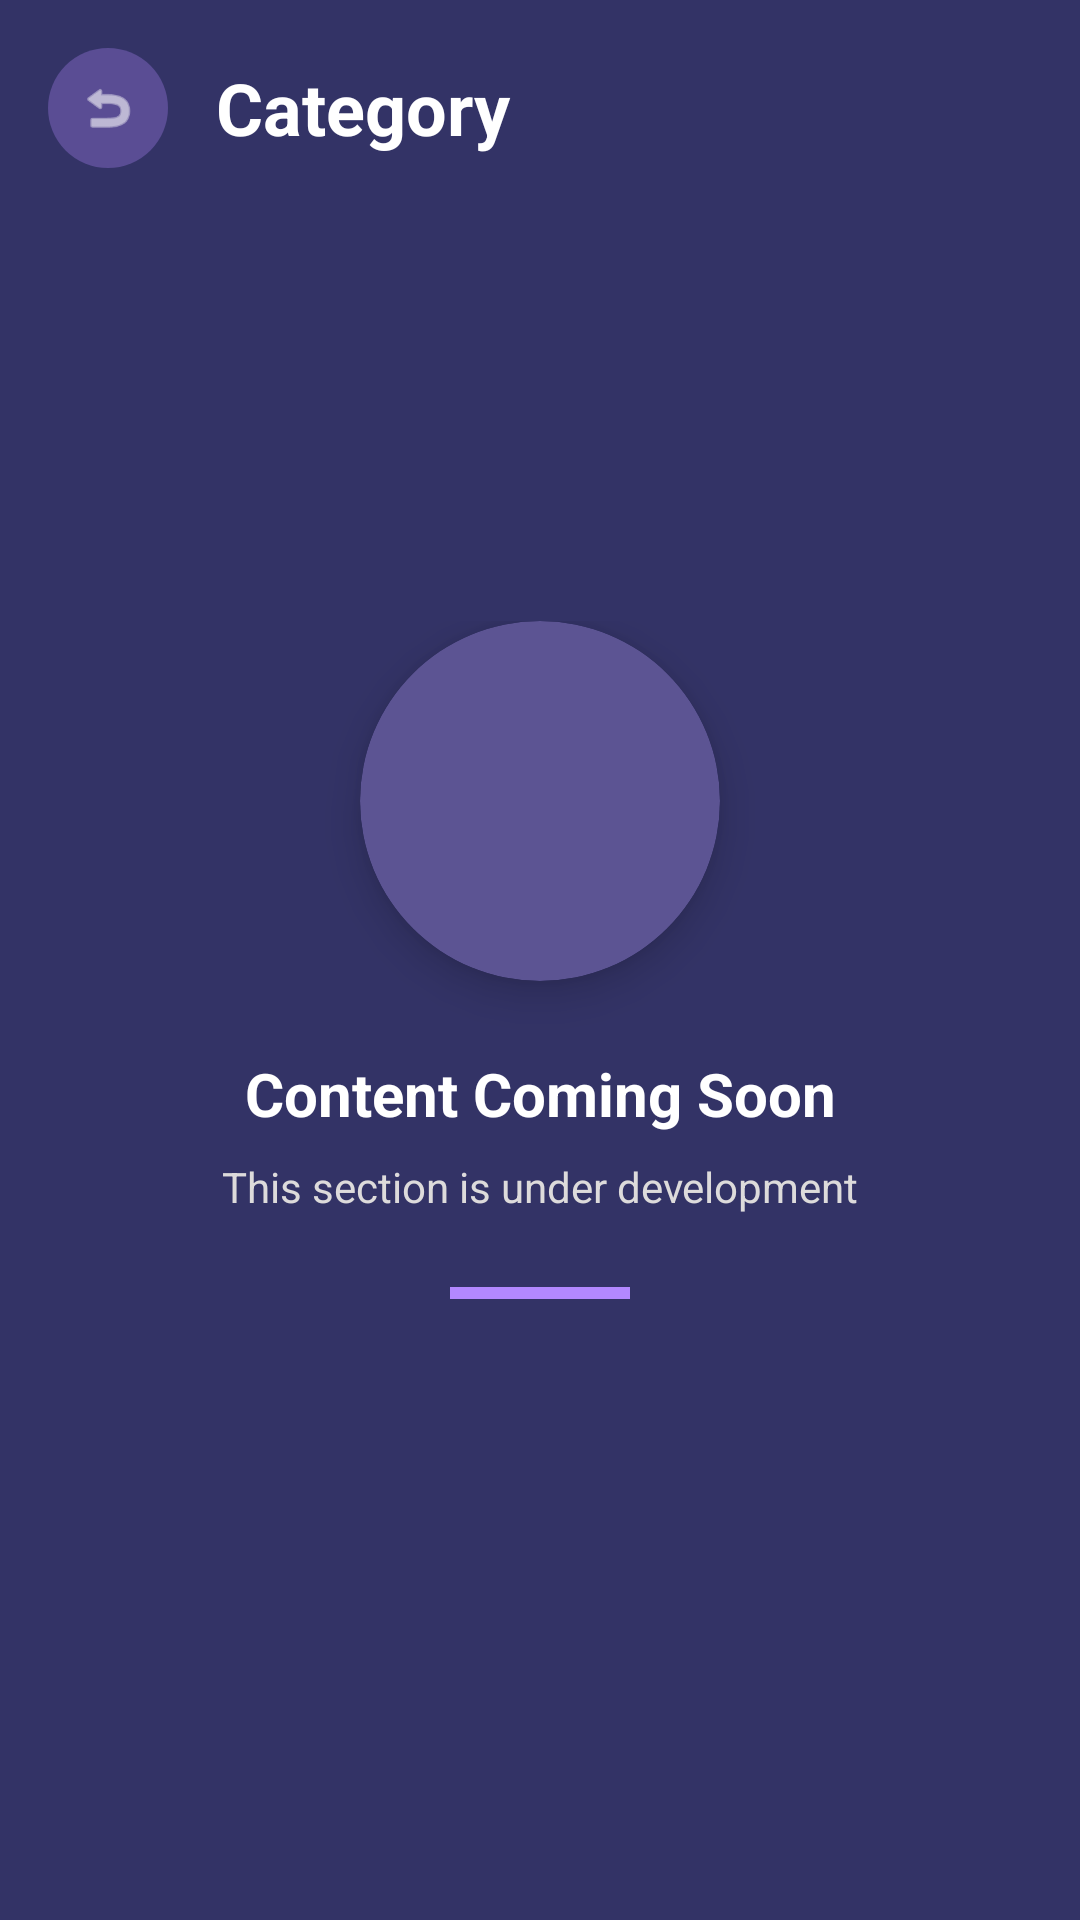

Where icons sit on this 1080px x 1920px app screen, as bbox=(x1, y1, x2, y2):
revert: bbox=(48, 48, 168, 168)
